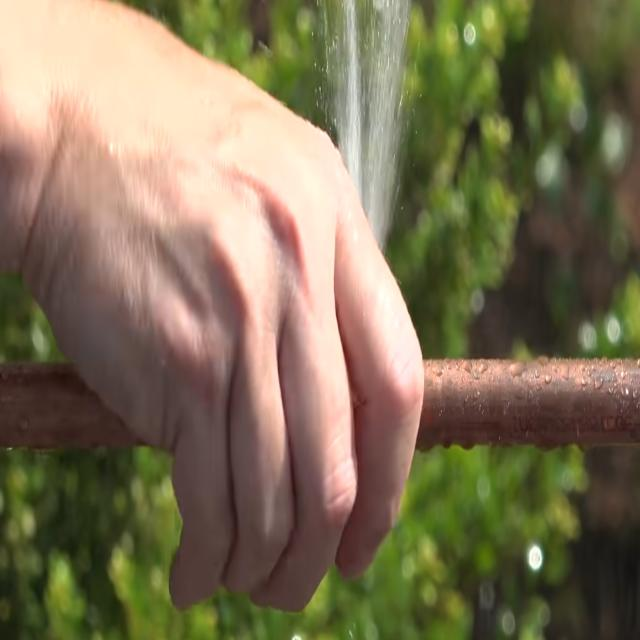leak: (322, 0, 410, 249)
